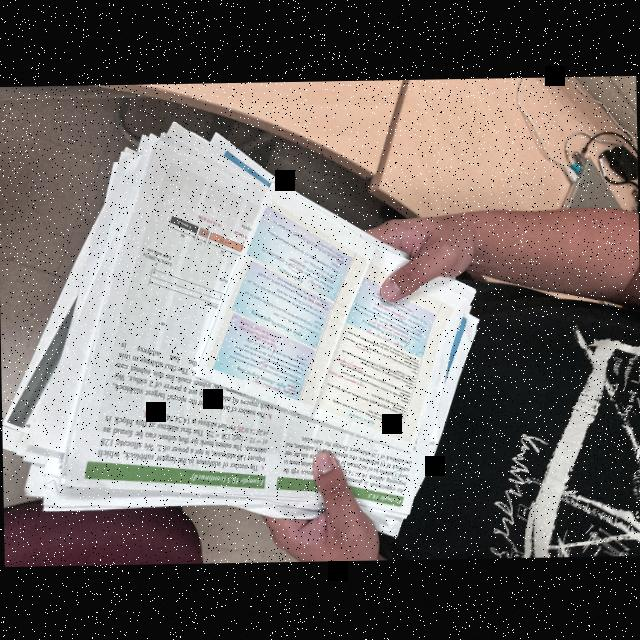reuseable_paper: (0, 109, 493, 551)
